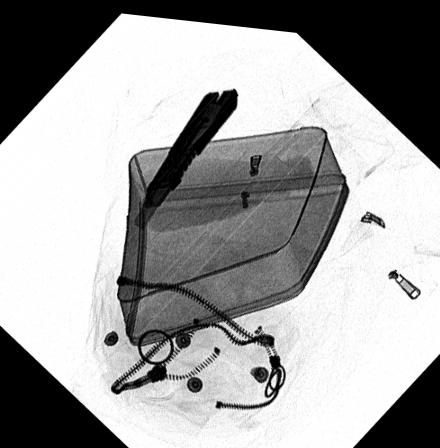Knife: (131, 81, 238, 229)
